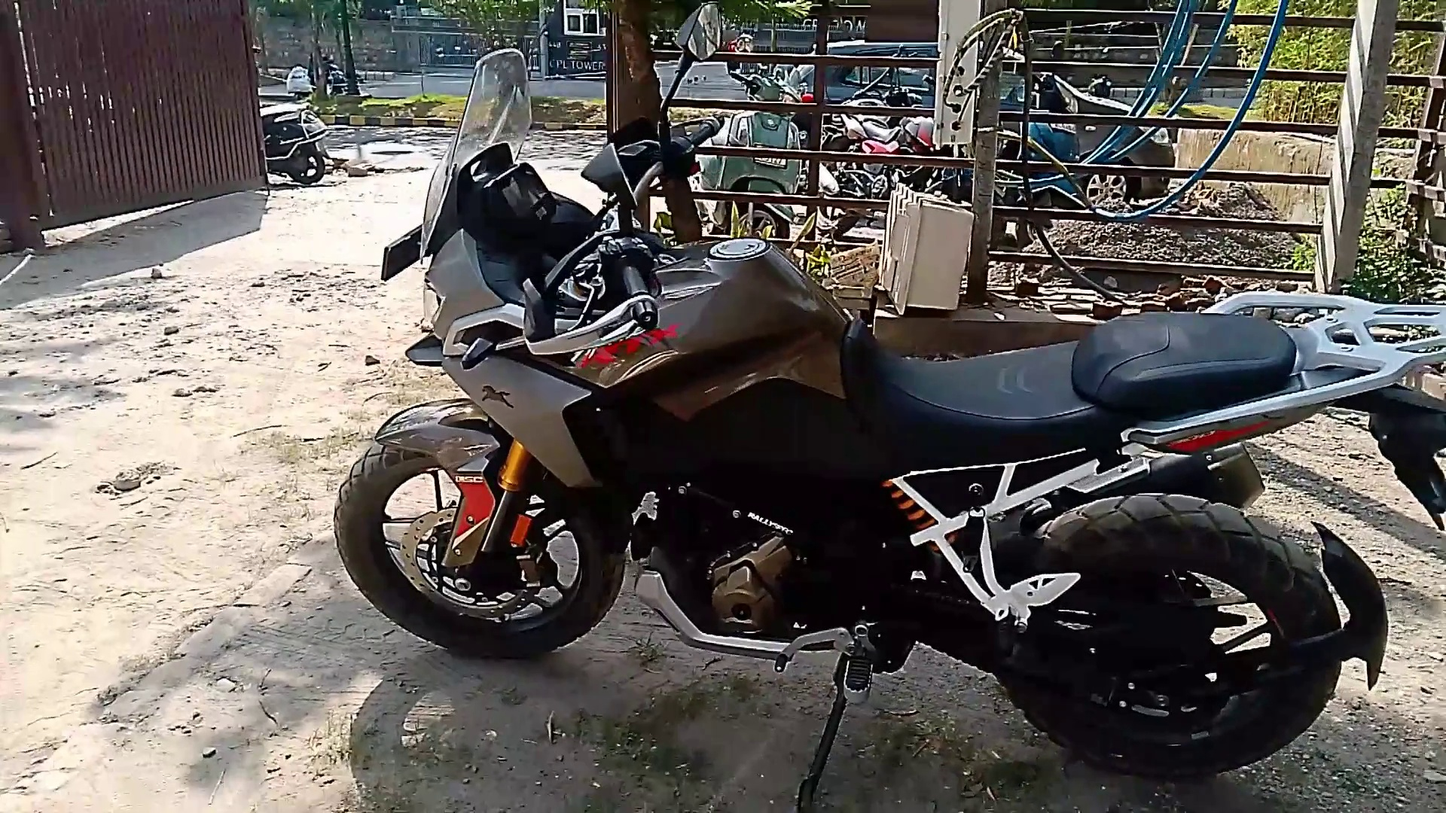engine: (678, 484, 813, 655)
